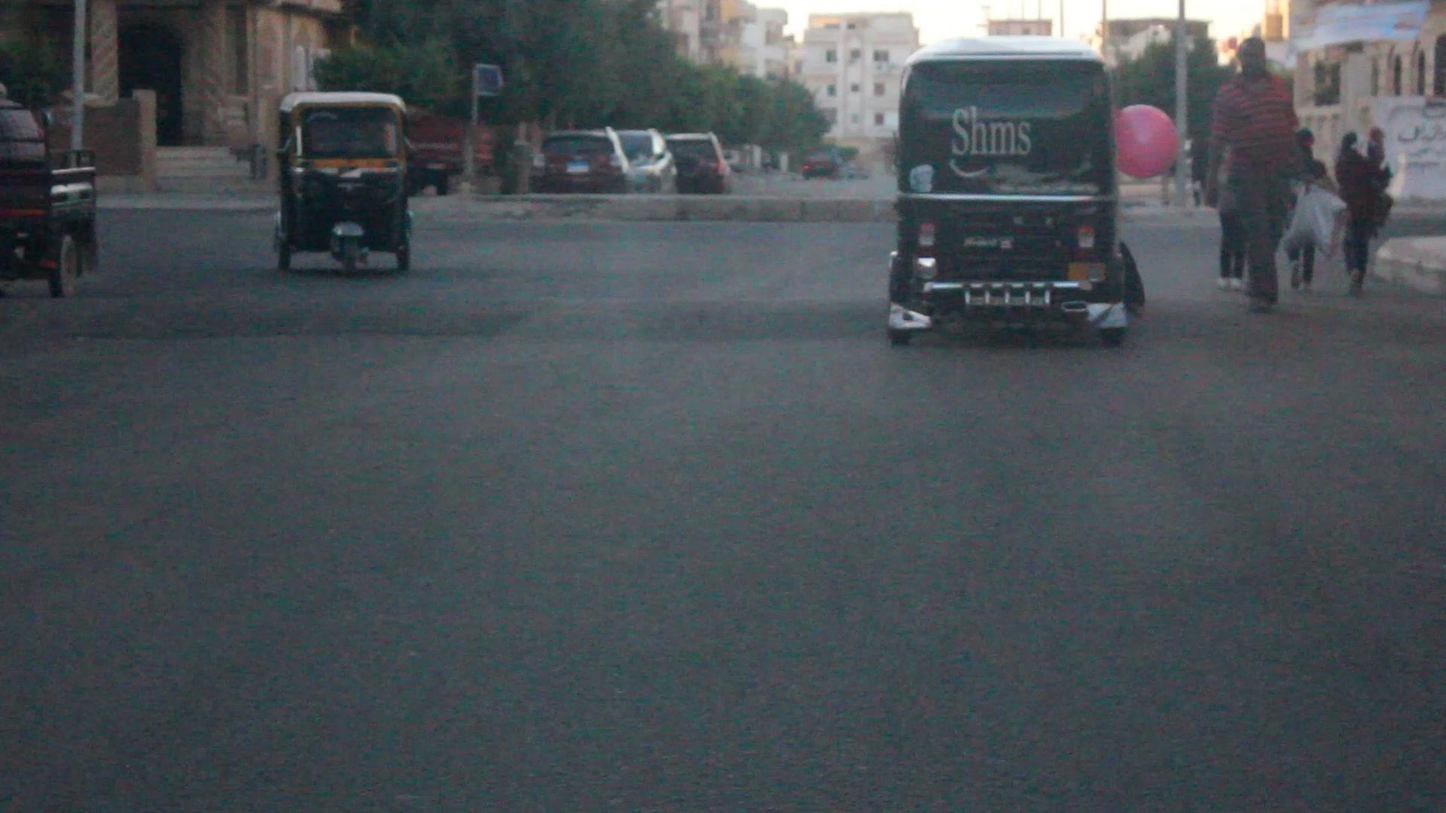Bump: (23, 269, 904, 369), (1162, 267, 1444, 346)
